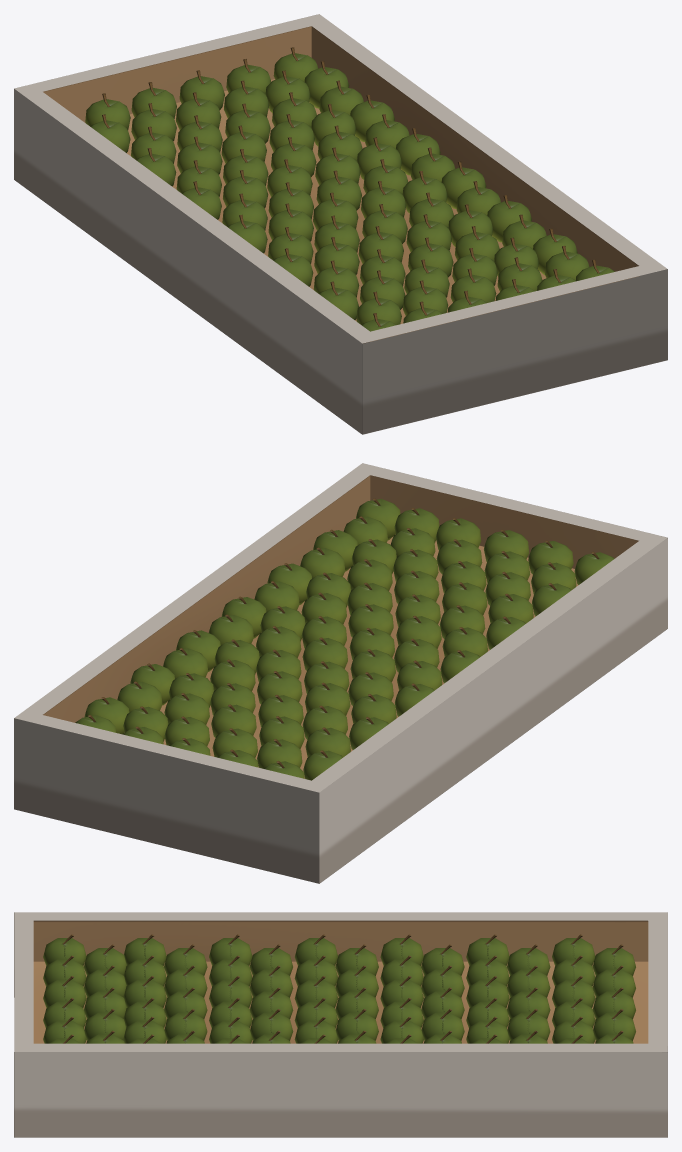
Rendered from apple_container.FBX.
The picture shows the model from 3 angles, top to bottom: view 1: azimuth 30°, elevation 25°; view 2: azimuth 150°, elevation 25°; view 3: azimuth 270°, elevation 25°; orthographic projection. The views are drawn at different scales.
Visible parts, largest first — view 1: Shop_Container_type1_005, Food_apple_116, Food_apple_094, Food_apple_083, Food_apple_127, Food_apple_105, Food_apple_095, Food_apple_133, Food_apple_089, Food_apple_100, Food_apple_111, Food_apple_084 (+60 smaller); view 2: Shop_Container_type1_005, Food_apple_125, Food_apple_092, Food_apple_103, Food_apple_114, Food_apple_136, Food_apple_143, Food_apple_099, Food_apple_121, Food_apple_102, Food_apple_110, Food_apple_132 (+61 smaller); view 3: Shop_Container_type1_005, Food_apple_091, Food_apple_135, Food_apple_106, Food_apple_117, Food_apple_124, Food_apple_080, Food_apple_095, Food_apple_128, Food_apple_084, Food_apple_102, Food_apple_150 (+52 smaller).
Boxes of the visible parts, x1=… form: Shop_Container_type1_005: x1=14, y1=14, x2=667, y2=434; Food_apple_116: x1=268, y1=203, x2=313, y2=241; Food_apple_094: x1=177, y1=136, x2=222, y2=174; Food_apple_083: x1=131, y1=103, x2=176, y2=141; Food_apple_127: x1=314, y1=237, x2=359, y2=274; Food_apple_105: x1=223, y1=170, x2=268, y2=207; Food_apple_095: x1=221, y1=125, x2=266, y2=163; Food_apple_133: x1=406, y1=214, x2=451, y2=252; Food_apple_089: x1=224, y1=80, x2=269, y2=118; Food_apple_100: x1=269, y1=114, x2=314, y2=151; Food_apple_111: x1=315, y1=147, x2=360, y2=185; Food_apple_084: x1=176, y1=92, x2=221, y2=129; Shop_Container_type1_005: x1=14, y1=463, x2=667, y2=883; Food_apple_125: x1=348, y1=604, x2=393, y2=637; Food_apple_092: x1=211, y1=704, x2=256, y2=737; Food_apple_103: x1=257, y1=671, x2=302, y2=704; Food_apple_114: x1=302, y1=637, x2=347, y2=670; Food_apple_136: x1=394, y1=570, x2=439, y2=603; Food_apple_143: x1=347, y1=559, x2=392, y2=590; Food_apple_099: x1=164, y1=693, x2=209, y2=724; Food_apple_121: x1=256, y1=626, x2=301, y2=657; Food_apple_102: x1=305, y1=682, x2=350, y2=715; Food_apple_110: x1=210, y1=659, x2=255, y2=691; Food_apple_132: x1=301, y1=592, x2=346, y2=624; Shop_Container_type1_005: x1=14, y1=912, x2=667, y2=1137; Food_apple_091: x1=507, y1=965, x2=550, y2=997; Food_apple_135: x1=164, y1=965, x2=207, y2=997; Food_apple_106: x1=380, y1=976, x2=423, y2=1007; Food_apple_117: x1=294, y1=976, x2=338, y2=1007; Food_apple_124: x1=250, y1=965, x2=293, y2=997; Food_apple_080: x1=592, y1=965, x2=635, y2=997; Food_apple_095: x1=466, y1=976, x2=509, y2=1007; Food_apple_128: x1=209, y1=976, x2=252, y2=1007; Food_apple_084: x1=552, y1=976, x2=595, y2=1007; Food_apple_102: x1=421, y1=965, x2=464, y2=997; Food_apple_150: x1=43, y1=976, x2=86, y2=1007.
Bounding box in the file's own units: 85.9 × 24.52 × 170.
Materials: 2 (2 with a texture image).
